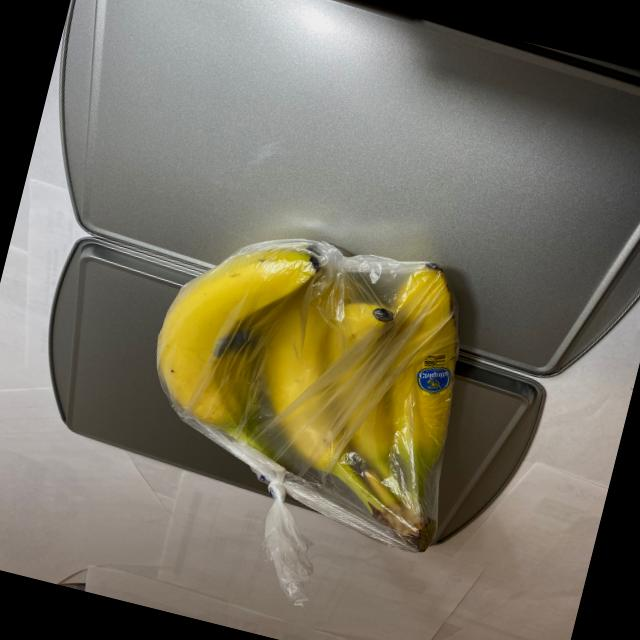banana: (122, 200, 507, 562)
